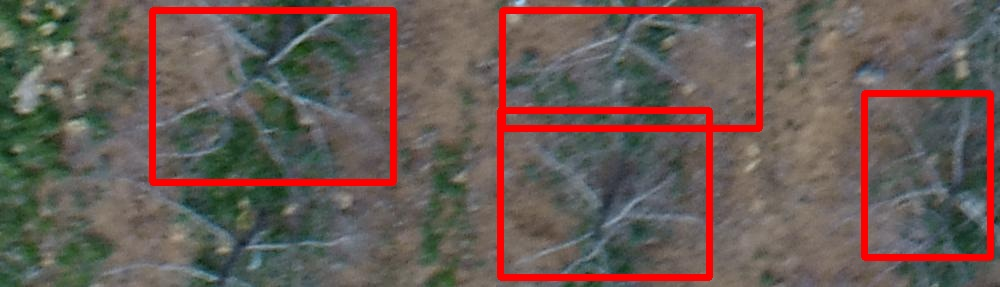apple: (152, 10, 393, 182), (500, 110, 709, 277), (502, 10, 759, 128), (864, 93, 990, 257)
